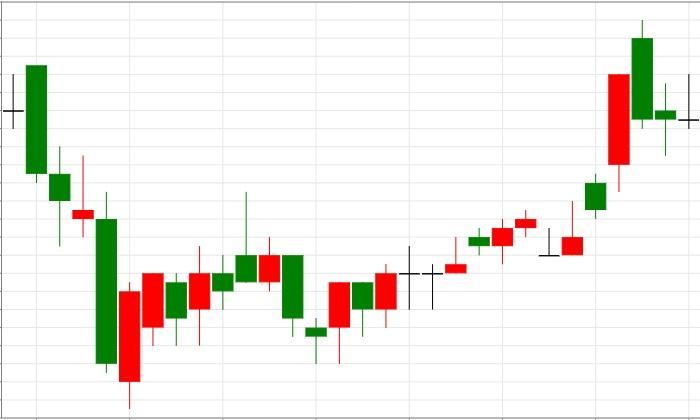morning_star_rise: (236, 191, 351, 364)
shooting_star_fall: (119, 191, 257, 408)
